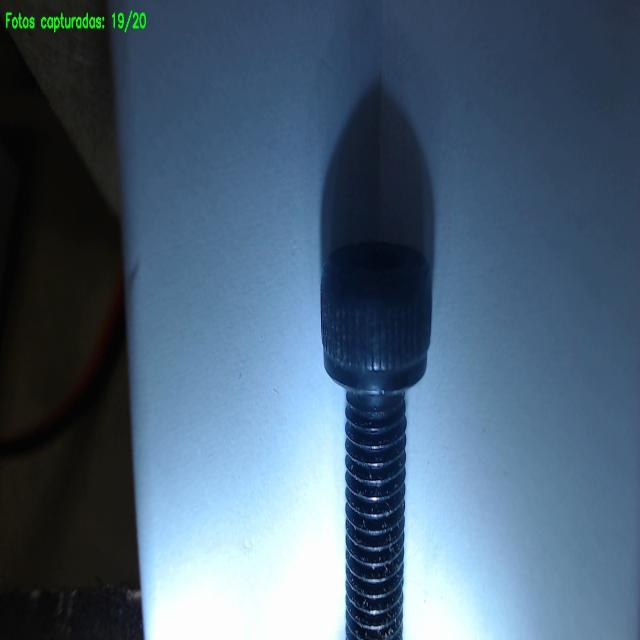vastago: (346, 404, 406, 639)
